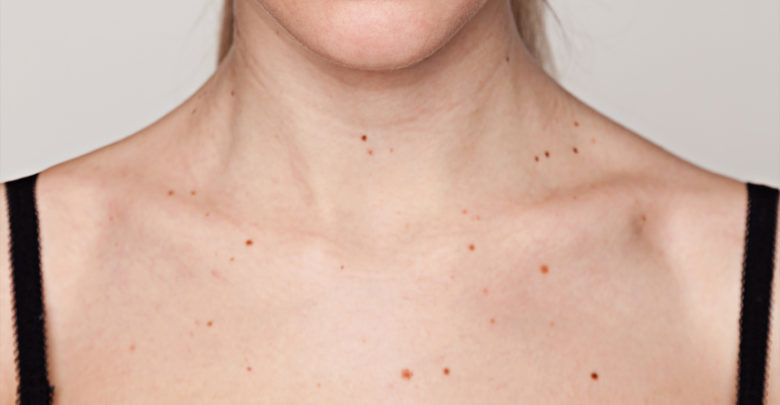mole: (437, 360, 458, 390), (393, 359, 416, 384), (531, 260, 555, 280), (197, 312, 220, 331), (459, 237, 479, 258), (538, 144, 557, 166), (159, 184, 180, 203), (499, 46, 516, 69), (587, 364, 603, 386), (238, 234, 259, 250), (354, 128, 371, 144), (568, 141, 583, 159)
